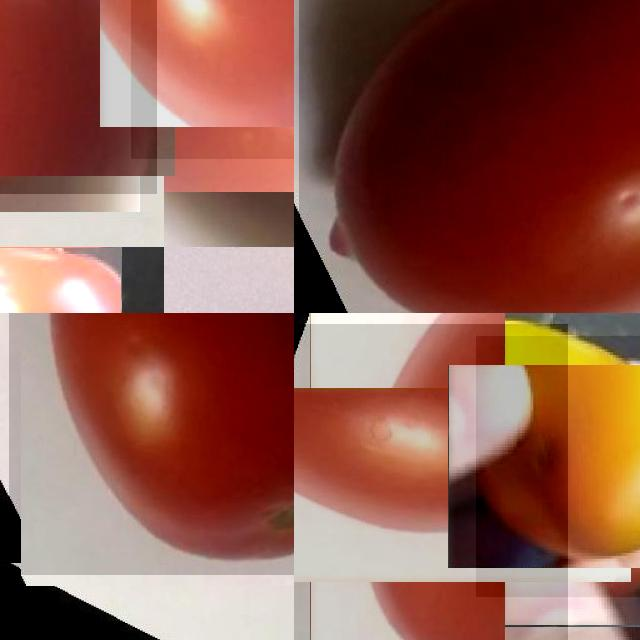Fresh Tomato: (298, 0, 640, 313), (294, 324, 568, 640), (9, 313, 294, 575), (0, 0, 157, 194), (131, 0, 294, 159)
Rotten Tomato: (476, 336, 640, 597)
